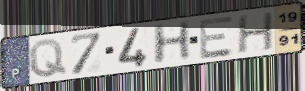4: (116, 26, 150, 69)
7: (69, 30, 103, 77)
E: (198, 14, 236, 61)
H: (151, 20, 193, 67), (236, 10, 276, 55)
Q: (27, 38, 69, 79)
